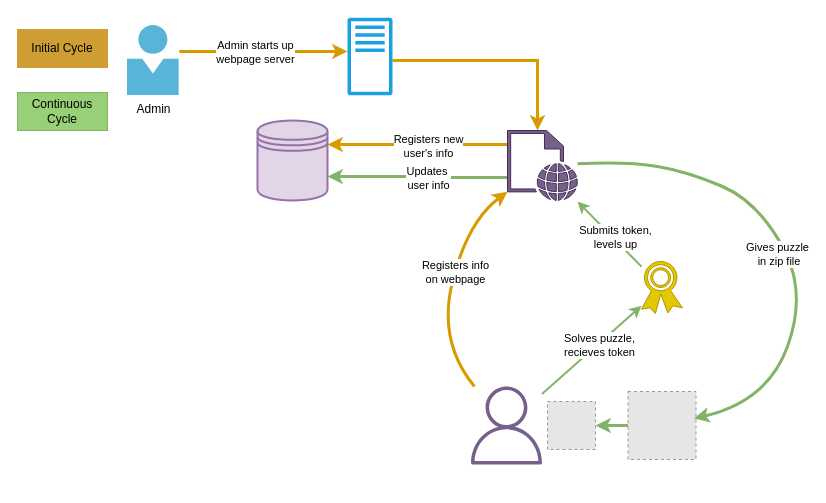
The diagram is 826 pixels wide and 503 high, and some of its shapes have lost their labels. Grey dashed boxes stand in for pictures. Each missing label, with the box of its shape:
Storage: (256, 119, 328, 201)
User: (466, 386, 546, 464)
